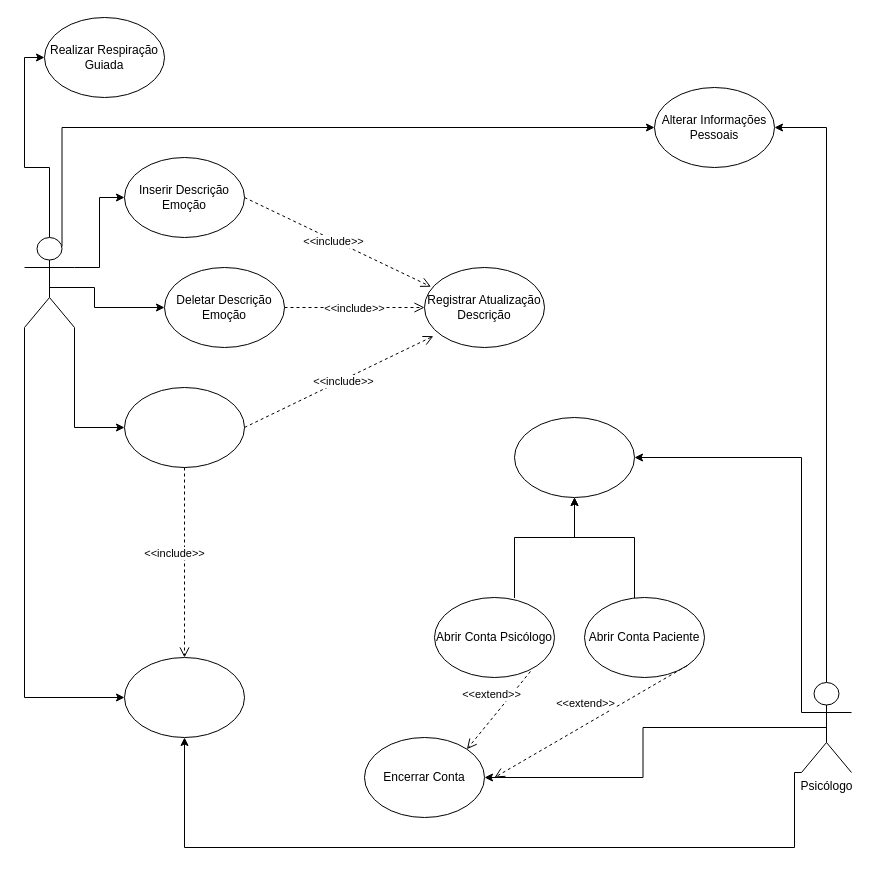
Some shapes in this 870 by 873 pixel diagram are drawn without their labels. The centre of each missing label's shape, as x and y in pixels:
"Abrir Conta" goes at point (574, 457).
"Alterar Descrição Emoção" goes at point (184, 427).
"Paciente" goes at point (49, 282).
"Visualizar Descrição" goes at point (184, 697).
